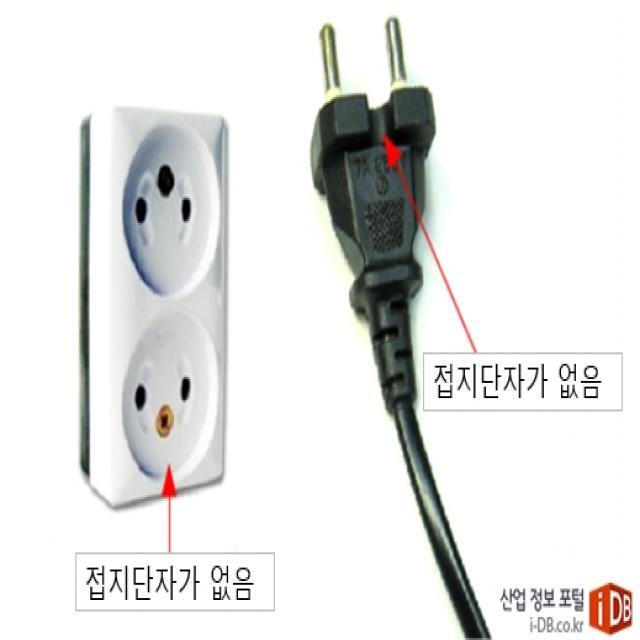typeb: (67, 79, 249, 516)
